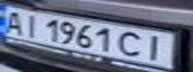1: (93, 25, 118, 53), (39, 16, 63, 43)
6: (75, 21, 93, 50)
9: (54, 19, 78, 46)
A: (0, 8, 27, 35)
C: (115, 29, 148, 58)
I: (139, 33, 172, 62), (18, 11, 45, 38)
